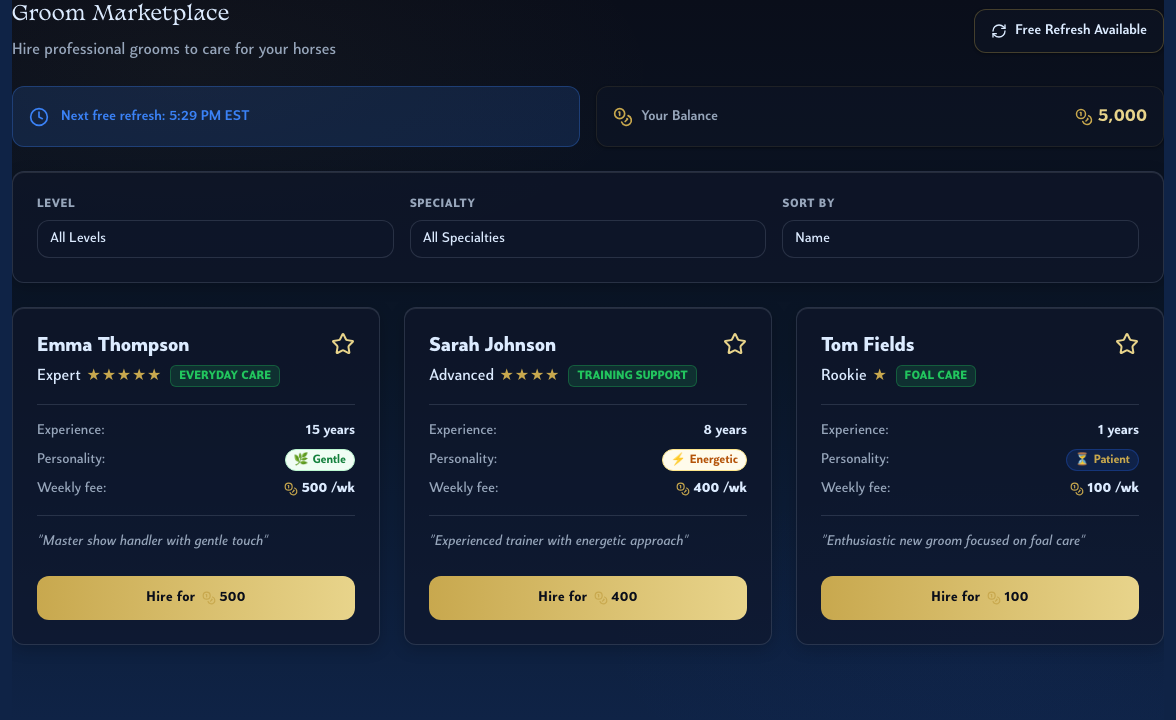
Scenario: Story 7-1: Groom Hiring Interface › AC2: Filter by specialty and price › filters grooms by specialty correctly
Select "Foal Care" in the dropdown with test id "specialty-filter": (588, 239) [410,220,766,258]
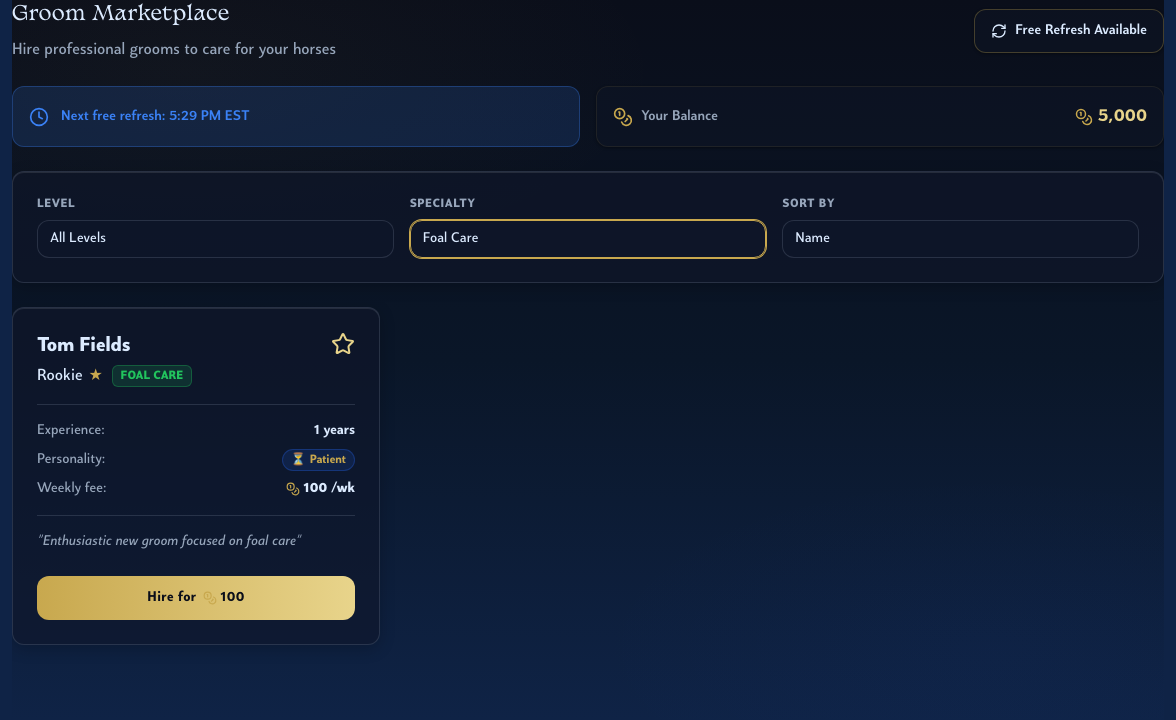
Expected: the heading "Tom Fields" is shown, [37,336,131,356]
Now the heading "Sarah Johnson" is gone
Now the heading "Emma Thompson" is gone
